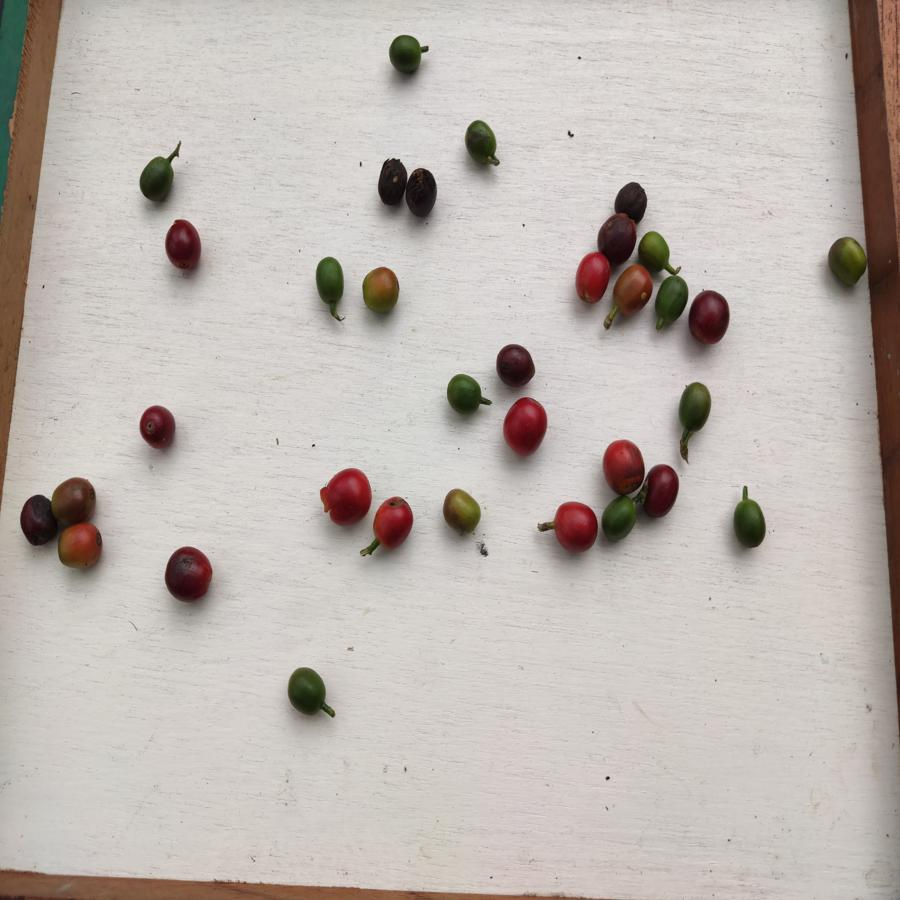Inmaduro: (823, 233, 870, 291), (137, 148, 176, 208), (286, 666, 328, 717), (312, 254, 348, 312), (464, 116, 501, 169), (653, 272, 690, 324), (443, 371, 483, 419), (733, 501, 769, 552), (600, 495, 637, 544), (678, 379, 712, 431), (385, 33, 427, 75), (640, 226, 672, 272)
Maduro: (316, 463, 374, 530), (501, 395, 550, 456), (373, 491, 414, 552), (552, 499, 599, 552), (602, 436, 644, 494), (575, 250, 610, 306)
Pinton: (57, 523, 107, 573), (613, 264, 653, 324), (440, 487, 485, 536), (360, 265, 401, 313)
Sobremaduro: (162, 542, 217, 602), (688, 285, 732, 347), (404, 166, 447, 225), (48, 475, 102, 521), (644, 461, 683, 519), (164, 217, 204, 272), (136, 399, 178, 451), (18, 491, 56, 548), (494, 341, 538, 388), (374, 158, 410, 209), (599, 212, 636, 255), (612, 178, 648, 221)
